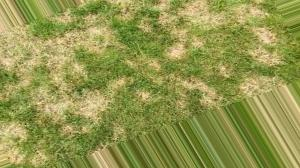patch: (46, 43, 77, 78), (5, 124, 22, 158), (190, 6, 215, 23), (82, 98, 104, 117), (168, 42, 189, 58)
